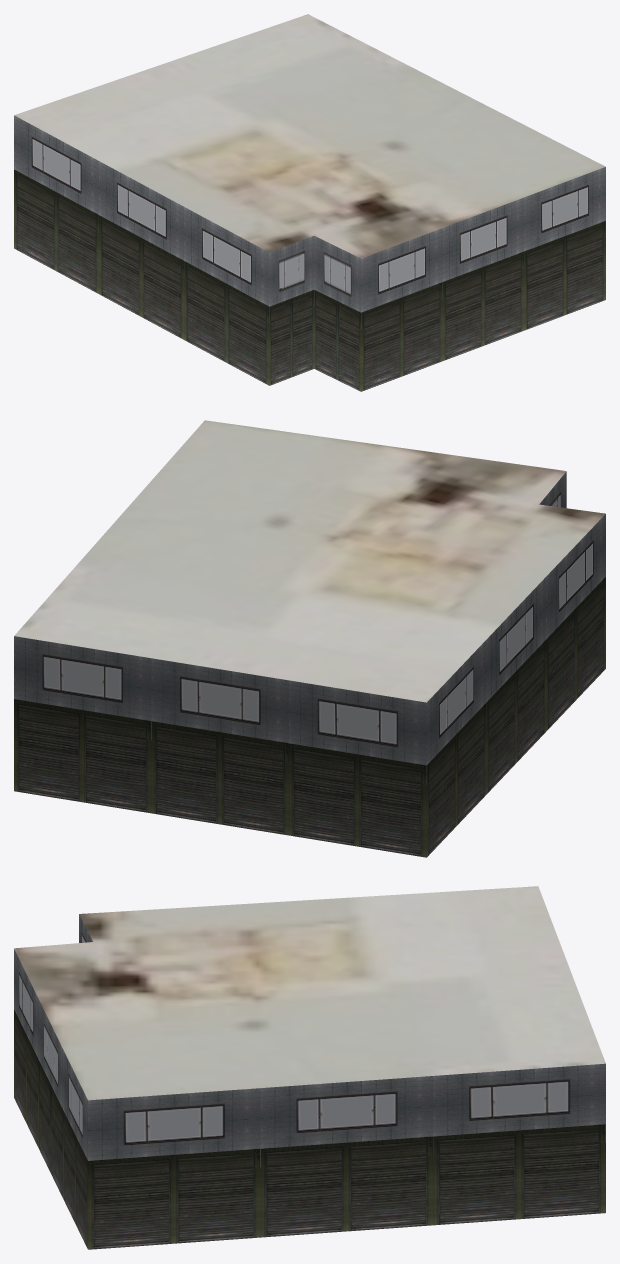
File: T_1SVRJ4NW2F.dae
The picture shows the model from 3 angles, top to bottom: view 1: azimuth 30°, elevation 25°; view 2: azimuth 150°, elevation 25°; view 3: azimuth 270°, elevation 25°; orthographic projection. The views are drawn at different scales.
Parts seen in each view (by area): view 1: SketchUp (×9); view 2: SketchUp (×5); view 3: SketchUp (×5).
Boxes of the visible parts, left/top/right/bottom form: SketchUp (×9): left=14, top=14, right=605, bottom=391; SketchUp (×5): left=14, top=420, right=605, bottom=857; SketchUp (×5): left=14, top=886, right=605, bottom=1249.
Bounding box in the file's own units: 17.06 × 19.93 × 5.55.
3 materials, 3 textured.
